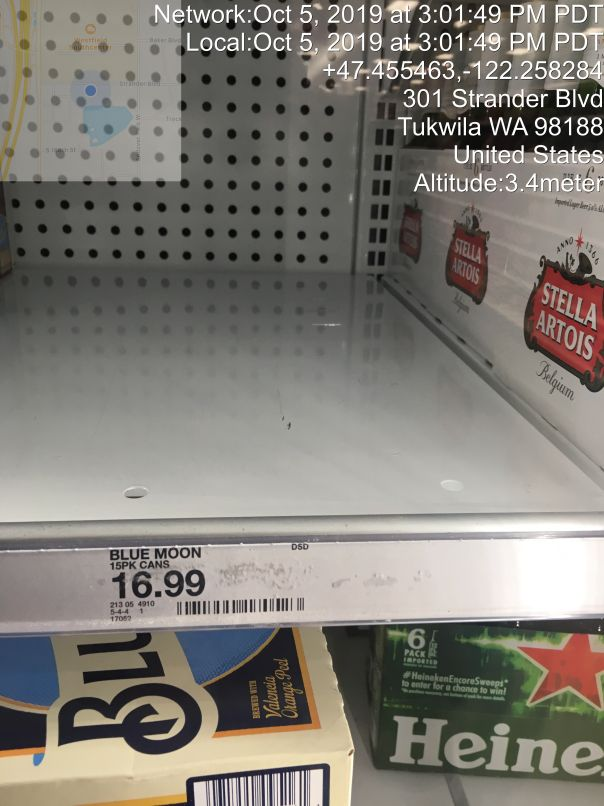Label: (94, 542, 331, 628)
Location: (390, 87, 604, 166)
Time: (143, 1, 602, 56)
Void: (43, 67, 443, 510)
